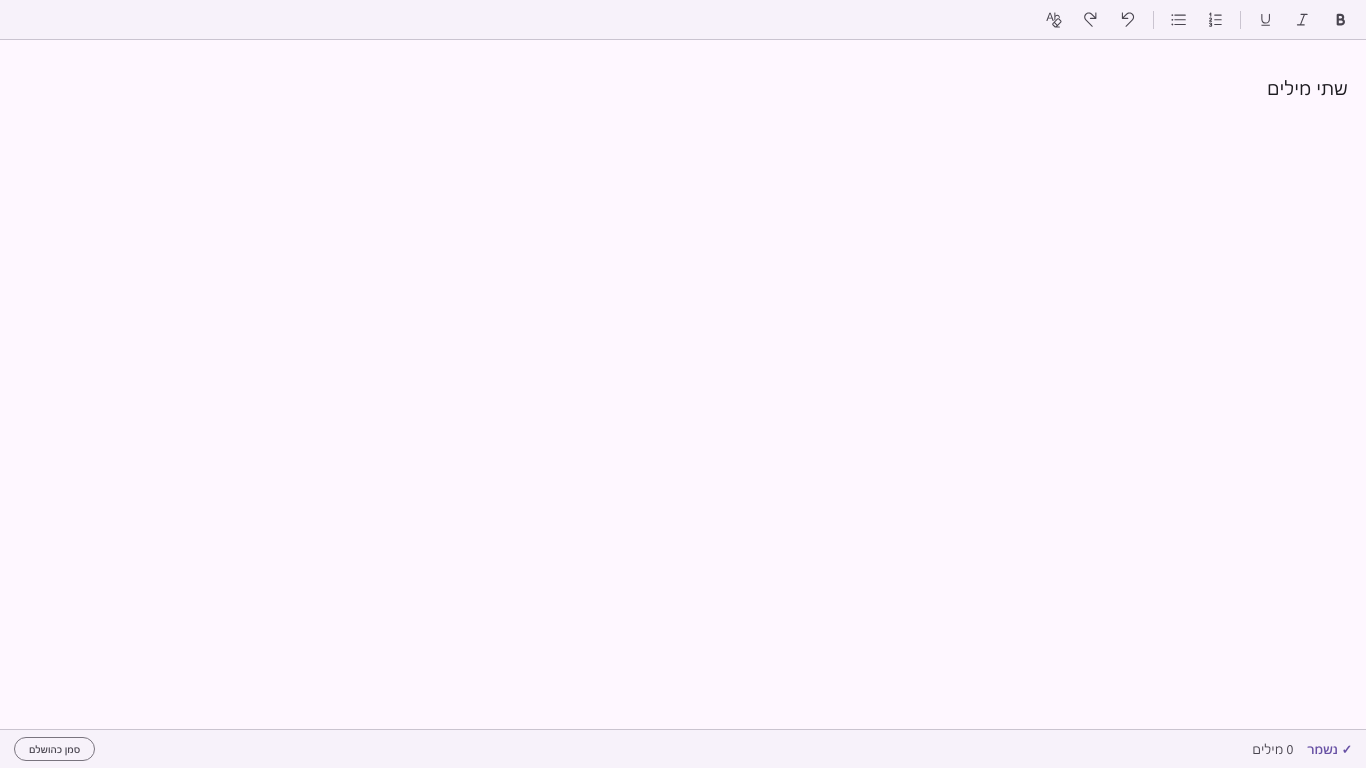
Test: AnswerEditor — עריכה ושמירה › מציג ספירת מילים ומצב שמירה
Expected: the text "0 מילים" is shown, [1252,739,1293,759]
Expected: the text "✓ נשמר" is shown, [1307,739,1352,759]
Clear the text box with class "answer-area" at (683, 385), box [0,40,1365,729]
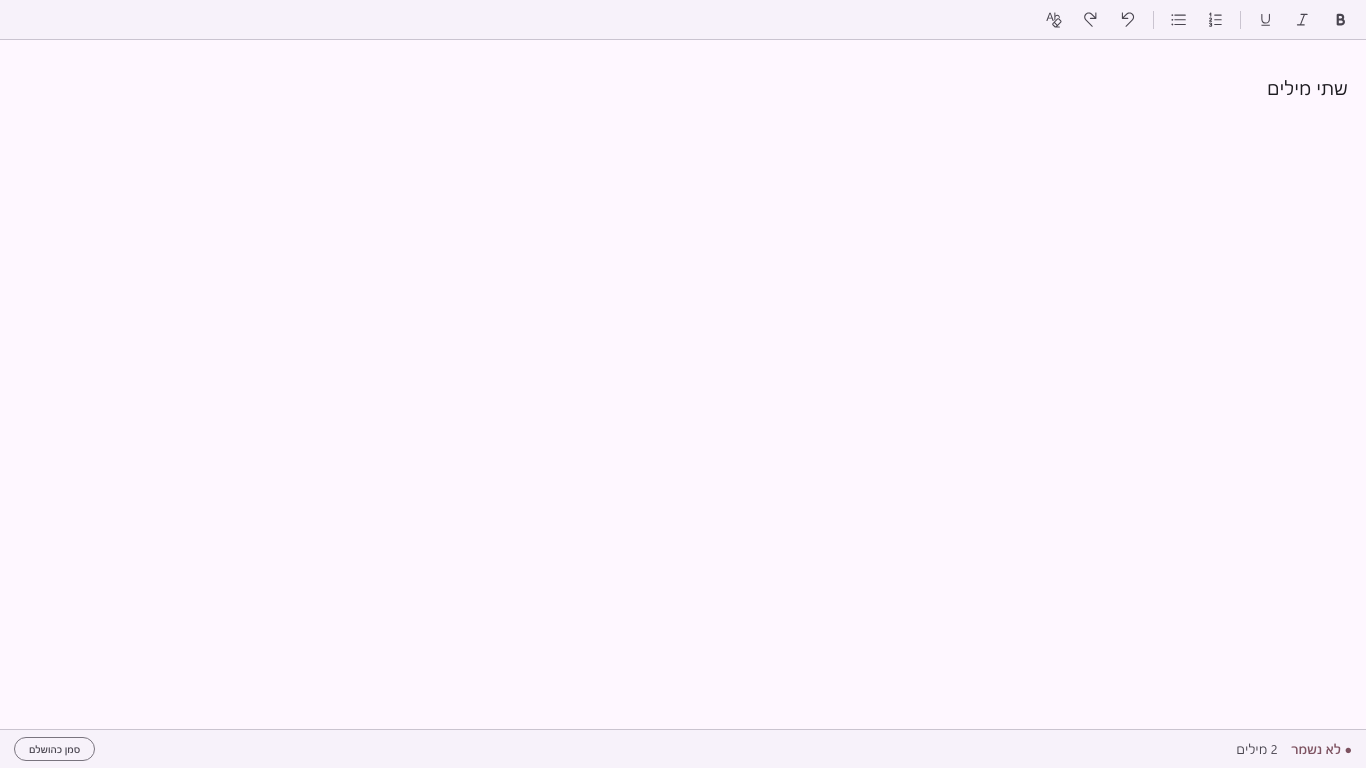
Result: the text "2 מילים" is shown at [1236,739,1278,759]
Result: the text "● לא נשמר" is shown at [1292,739,1352,759]
